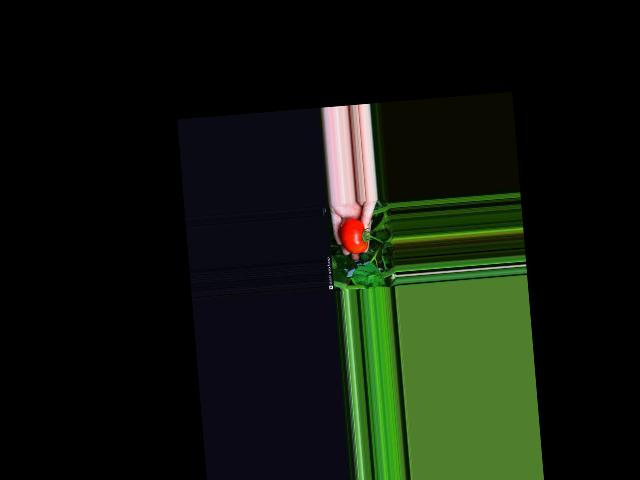tomato: (338, 216, 368, 254)
